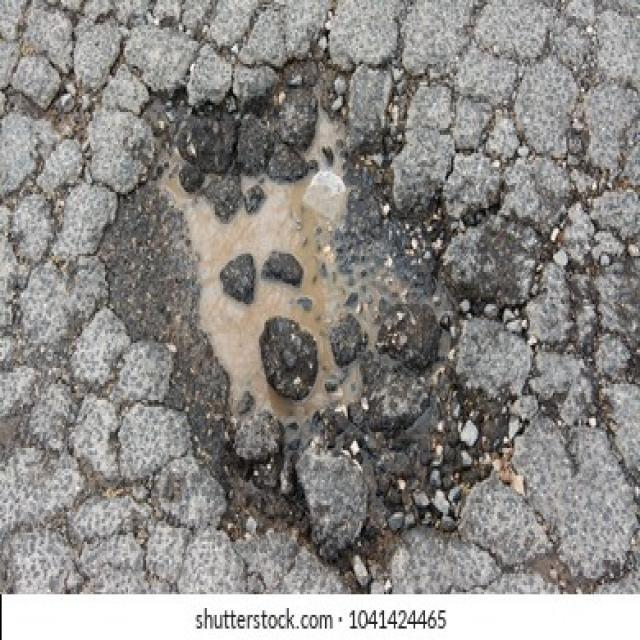Pothole: (113, 78, 507, 528)
